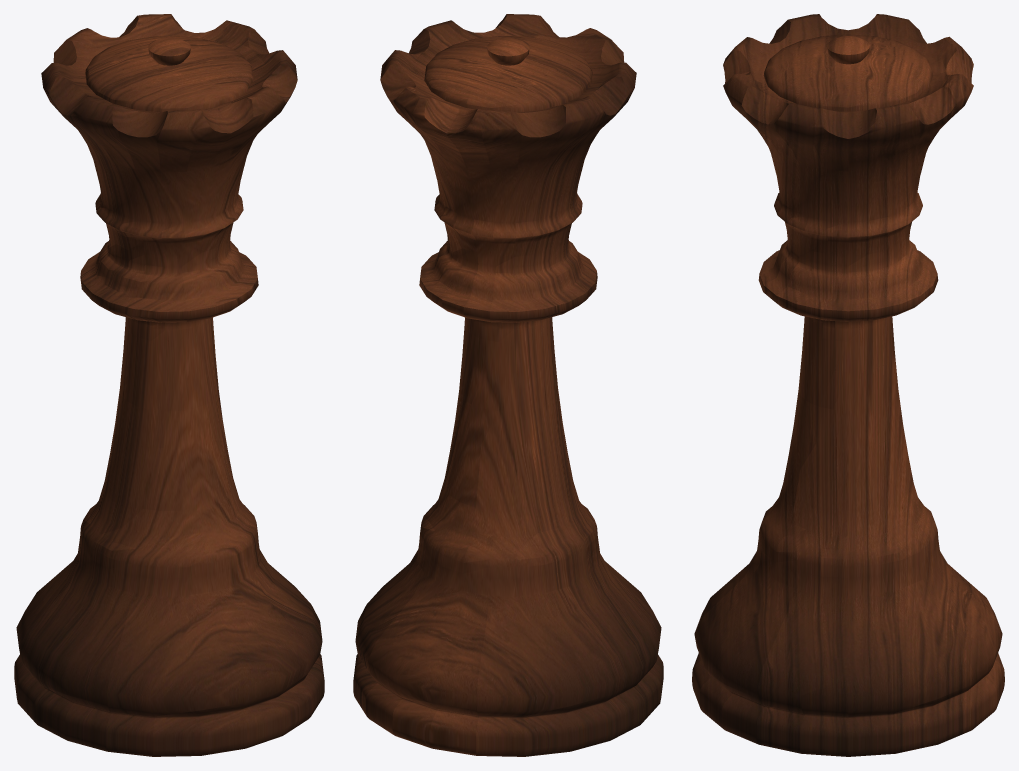
Rendered from preto-rainha.obj.
The picture shows the model from 3 angles, left to right: view 1: azimuth 30°, elevation 25°; view 2: azimuth 150°, elevation 25°; view 3: azimuth 270°, elevation 25°; orthographic projection.
Parts seen in each view (by area): view 1: REGINA01; view 2: REGINA01; view 3: REGINA01.
Boxes of the visible parts, <box> form: REGINA01: <box>14,14,324,756</box>; REGINA01: <box>353,14,663,756</box>; REGINA01: <box>692,14,1004,756</box>.
Size of the model in its own units: 186 by 429 by 186.
Materials: 1 (1 with a texture image).
